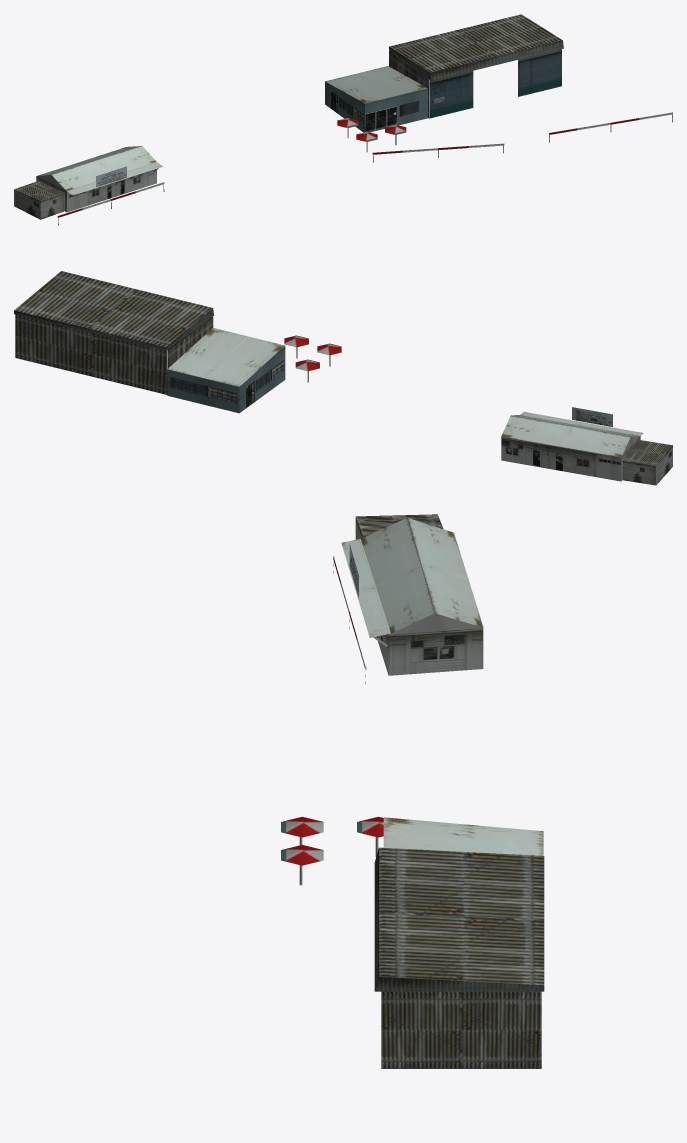
Rendered from Avia_Moonair.gltf.
3 renders of one model, top to bottom at view 1: azimuth 30°, elevation 25°; view 2: azimuth 150°, elevation 25°; view 3: azimuth 270°, elevation 25°, orthographic. The views are drawn at different scales.
Visible parts, largest first — view 1: node1; view 2: node1; view 3: node1.
Part boxes in pixels (x1,y1,x2,y2): node1: [14, 14, 672, 225]; node1: [14, 271, 672, 485]; node1: [281, 514, 544, 1068].
Bounding box in the file's own units: 81.07 × 6.77 × 24.09.
